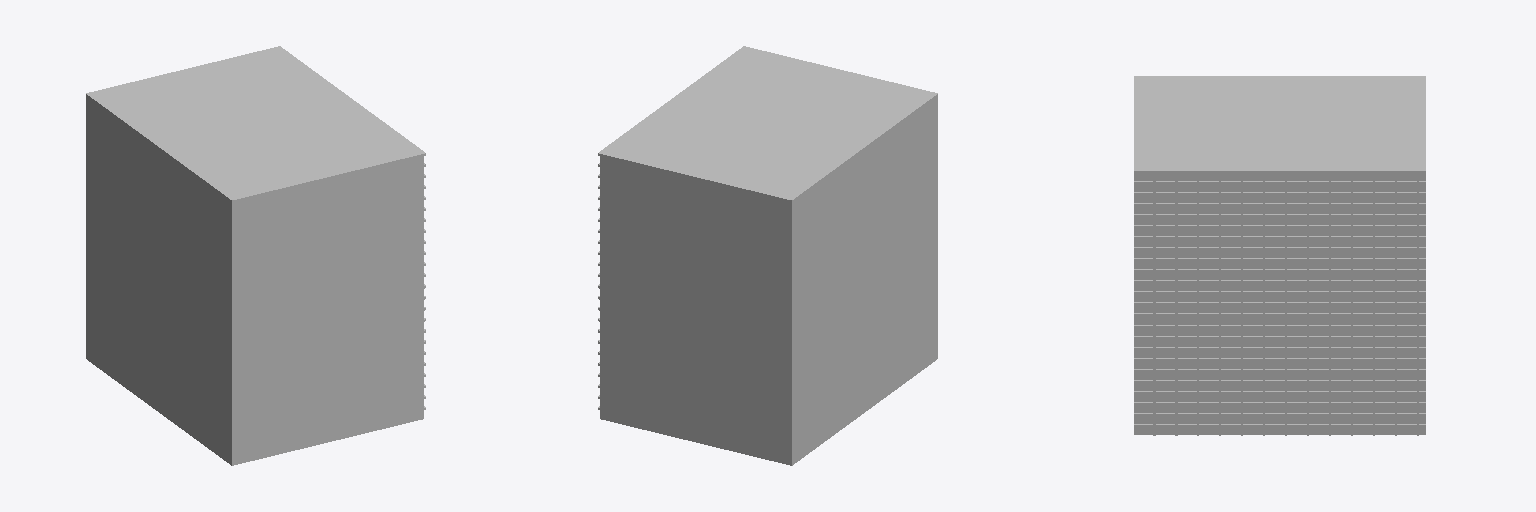
The model's file is 3d fon 1.1-14.obj.
The picture shows the model from 3 angles: view 1: azimuth 30°, elevation 25°; view 2: azimuth 150°, elevation 25°; view 3: azimuth 270°, elevation 25°; orthographic projection.
Visible parts, largest first — view 1: object 1; view 2: object 1; view 3: object 1.
Part boxes in pixels (left/top/right/bottom): object 1: left=86, top=46, right=425, bottom=465; object 1: left=598, top=46, right=937, bottom=465; object 1: left=1134, top=76, right=1425, bottom=435.
Bounding box in the file's own units: 9.2 × 12 × 12.